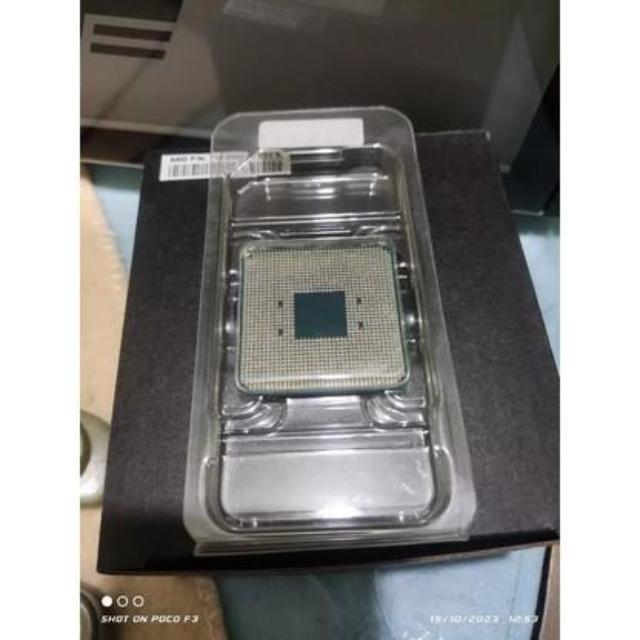CPU: (236, 245, 407, 392)
